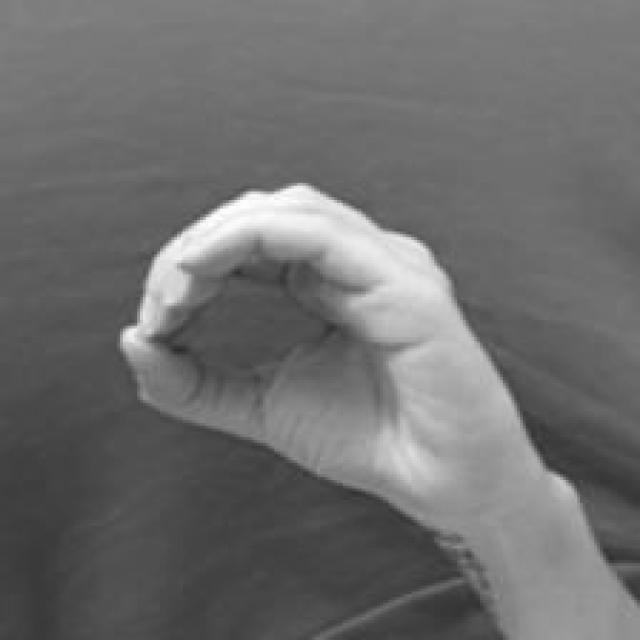O: (111, 174, 570, 532)
